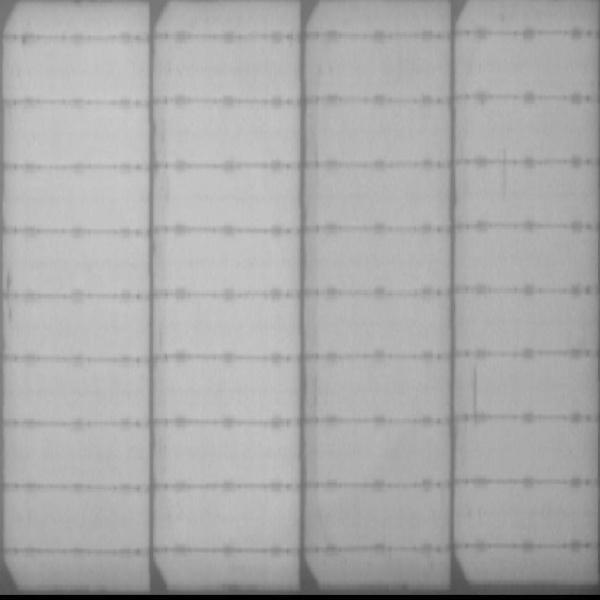scratch: (467, 353, 482, 422), (497, 146, 513, 203), (5, 268, 17, 333)
